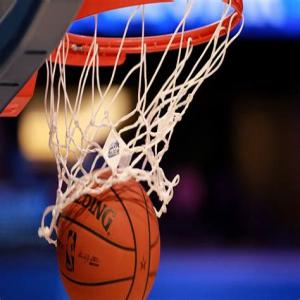Basket: (54, 167, 161, 300)
